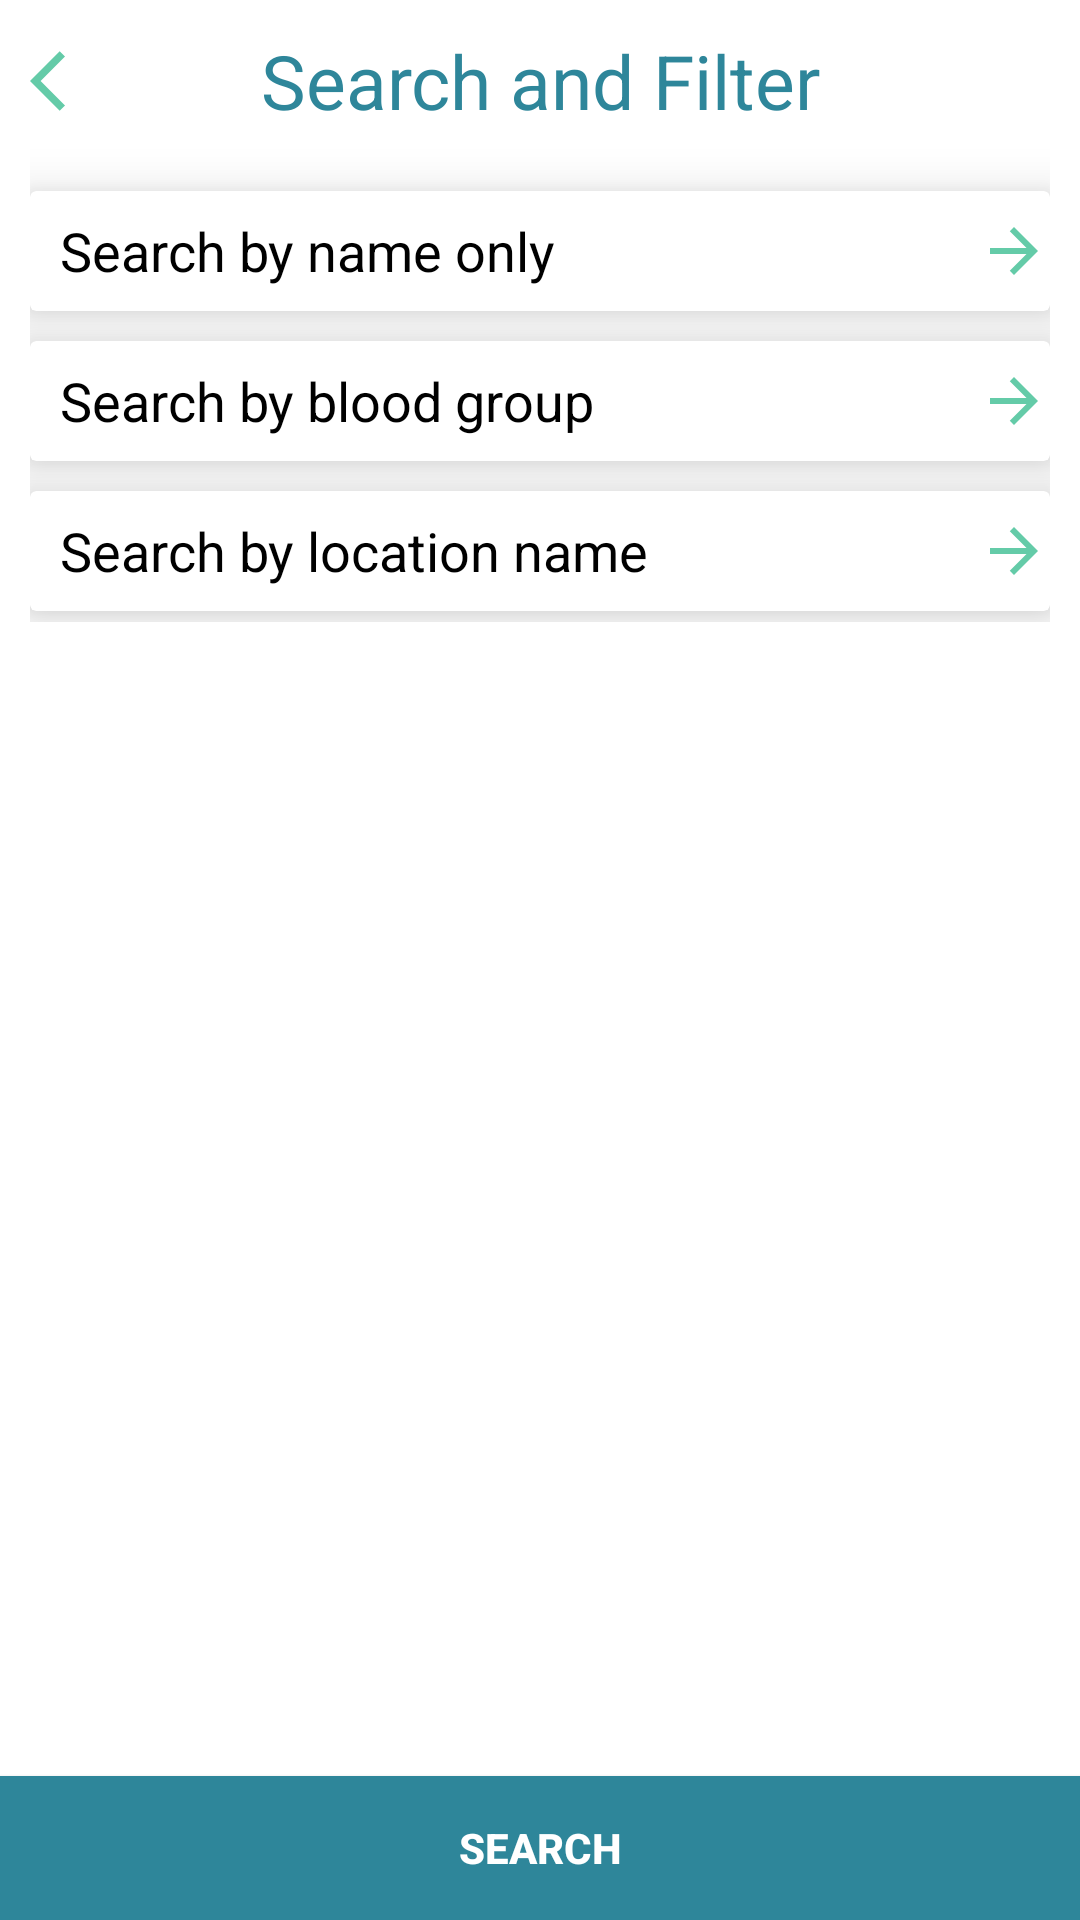

Locate icon controls on the screen. Image size 1080 x 1920, boxes as (x1, y1, x2, y2).
arrow backfilter act: (30, 51, 65, 111)
arrow forward: (990, 227, 1038, 275), (990, 377, 1038, 425), (990, 527, 1038, 575)
